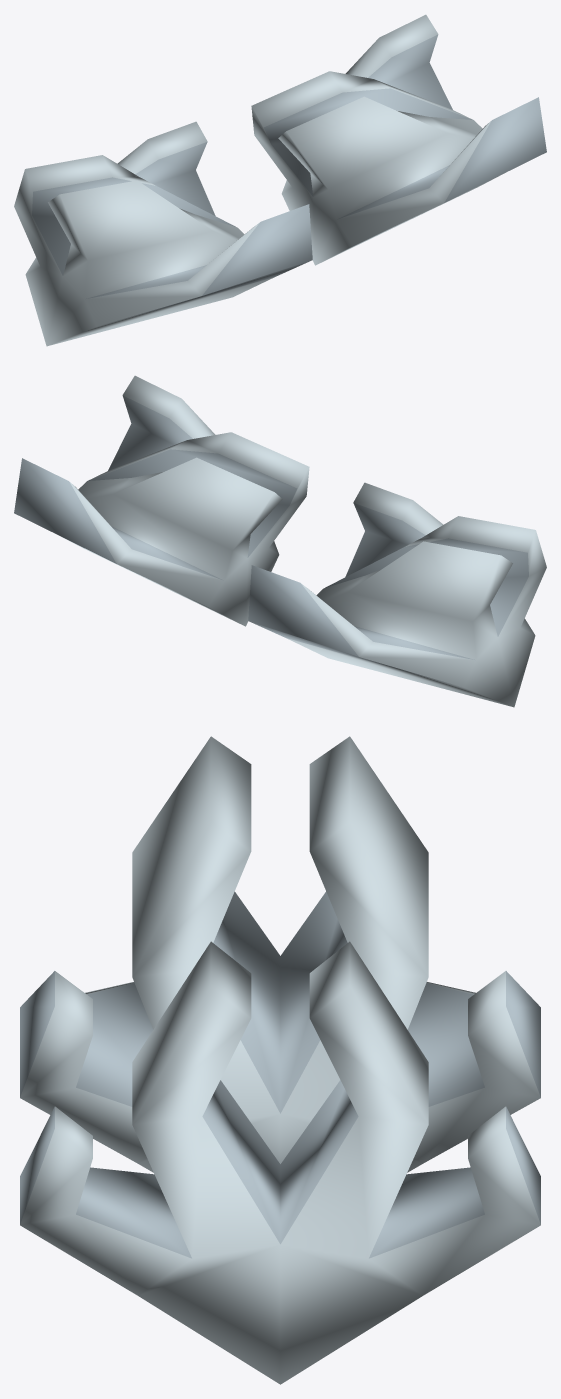
Rendered from Bone_4_color_1.FBX.
3 views of the same model, one above another, from view 1: azimuth 30°, elevation 25°; view 2: azimuth 150°, elevation 25°; view 3: azimuth 270°, elevation 25° (orthographic). The views are drawn at different scales.
Parts seen in each view (by area): view 1: Bone; view 2: Bone; view 3: Bone.
Part boxes in pixels (x1,y1,x2,y2): Bone: [14, 14, 546, 346]; Bone: [14, 375, 546, 707]; Bone: [20, 736, 540, 1384].
Size of the model in its own units: 0.3898 by 0.1585 by 0.1977.
